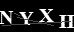H: (58, 14, 74, 29)
N: (1, 10, 14, 25)
X: (37, 8, 55, 24)
Y: (17, 11, 34, 26)
